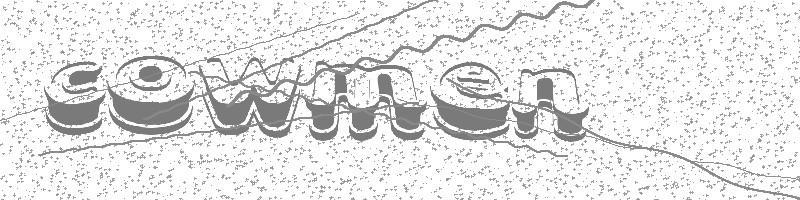c: (42, 59, 110, 134)
e: (430, 58, 513, 142)
m: (307, 59, 428, 144)
n: (509, 64, 591, 143)
o: (108, 51, 195, 137)
w: (196, 54, 305, 138)
